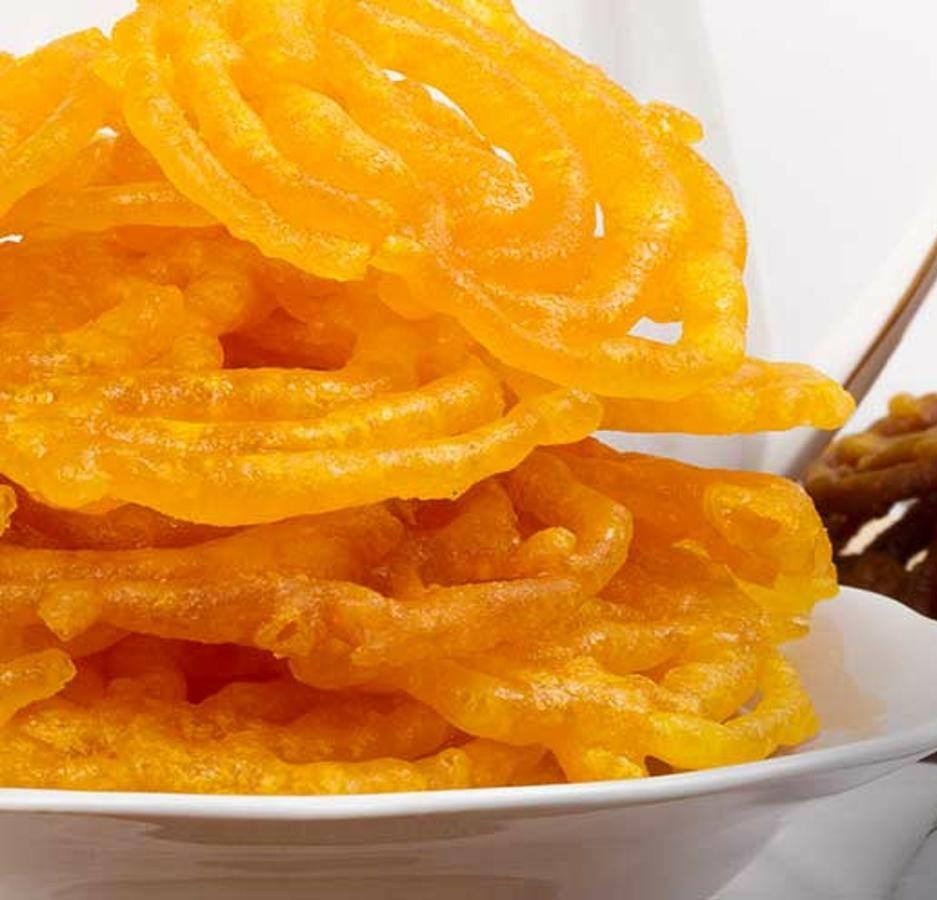Jalebi: (0, 0, 861, 793)
